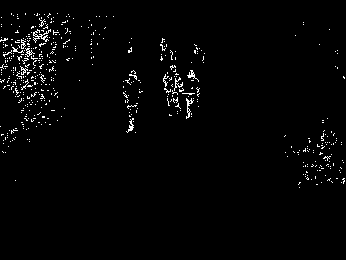person: (116, 67, 144, 133), (186, 66, 208, 125), (161, 65, 184, 121)
